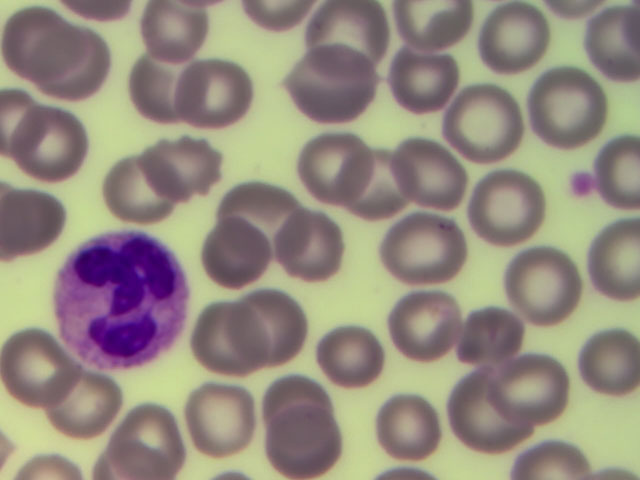Platelets: (570, 173, 595, 200)
RBC: (4, 4, 78, 81), (42, 29, 116, 106), (15, 103, 89, 180), (95, 149, 169, 226), (137, 130, 211, 207), (187, 52, 261, 129), (128, 43, 202, 120), (293, 45, 367, 122), (383, 44, 457, 121), (451, 83, 525, 160), (471, 6, 545, 83), (532, 67, 606, 144), (473, 167, 547, 244), (392, 133, 466, 210), (342, 151, 416, 228), (301, 134, 375, 211), (280, 206, 354, 283), (220, 179, 294, 256), (204, 212, 278, 289), (181, 303, 255, 380), (249, 287, 323, 364), (314, 325, 388, 402), (391, 285, 465, 362), (388, 216, 462, 293), (456, 290, 530, 367), (509, 245, 583, 322), (136, 1, 210, 77), (309, 1, 388, 57), (592, 220, 640, 305), (583, 326, 640, 396), (507, 351, 564, 421), (445, 380, 502, 450), (283, 410, 340, 480), (268, 362, 325, 432), (196, 385, 253, 455), (126, 408, 183, 478), (59, 373, 116, 443), (6, 333, 63, 403), (3, 185, 60, 255), (380, 390, 437, 460)
WBC: (57, 231, 189, 367)
